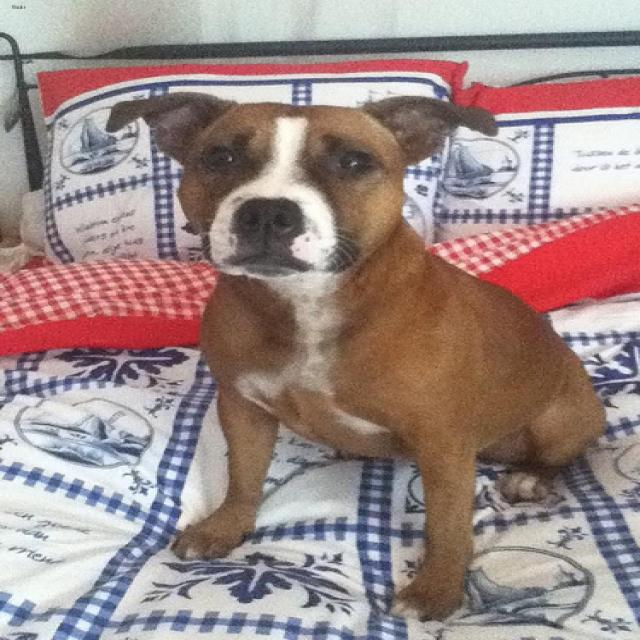dog-staffordshire_bull_terrier: (90, 84, 616, 630)
